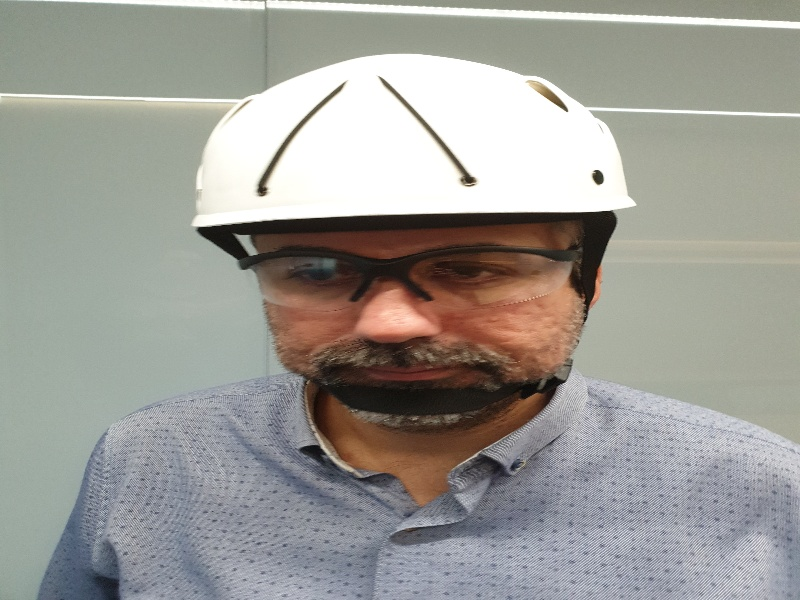Baret: (193, 57, 638, 216)
Gozluk: (234, 245, 589, 310)
